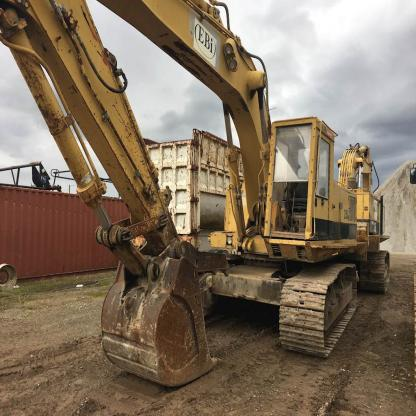excavator: (0, 1, 403, 387)
